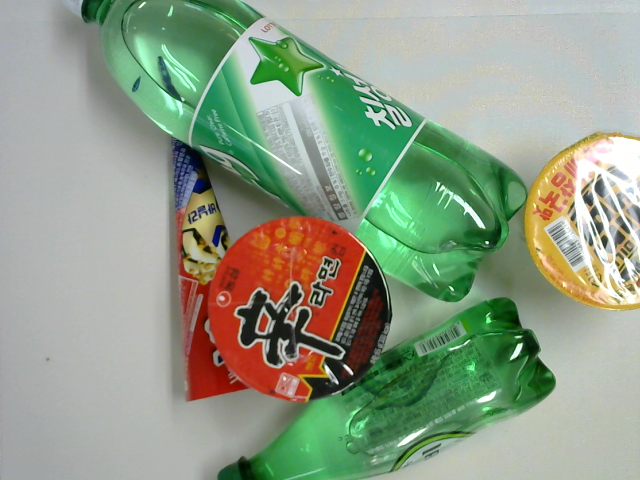Chilseong_Cider_1.5L: (64, 1, 528, 302)
Hejangmini: (522, 132, 640, 311)
Sinramen_small: (207, 216, 391, 403)
Treviraim_500ml: (218, 298, 555, 480)
World_Cone_Banila: (174, 116, 250, 401)
